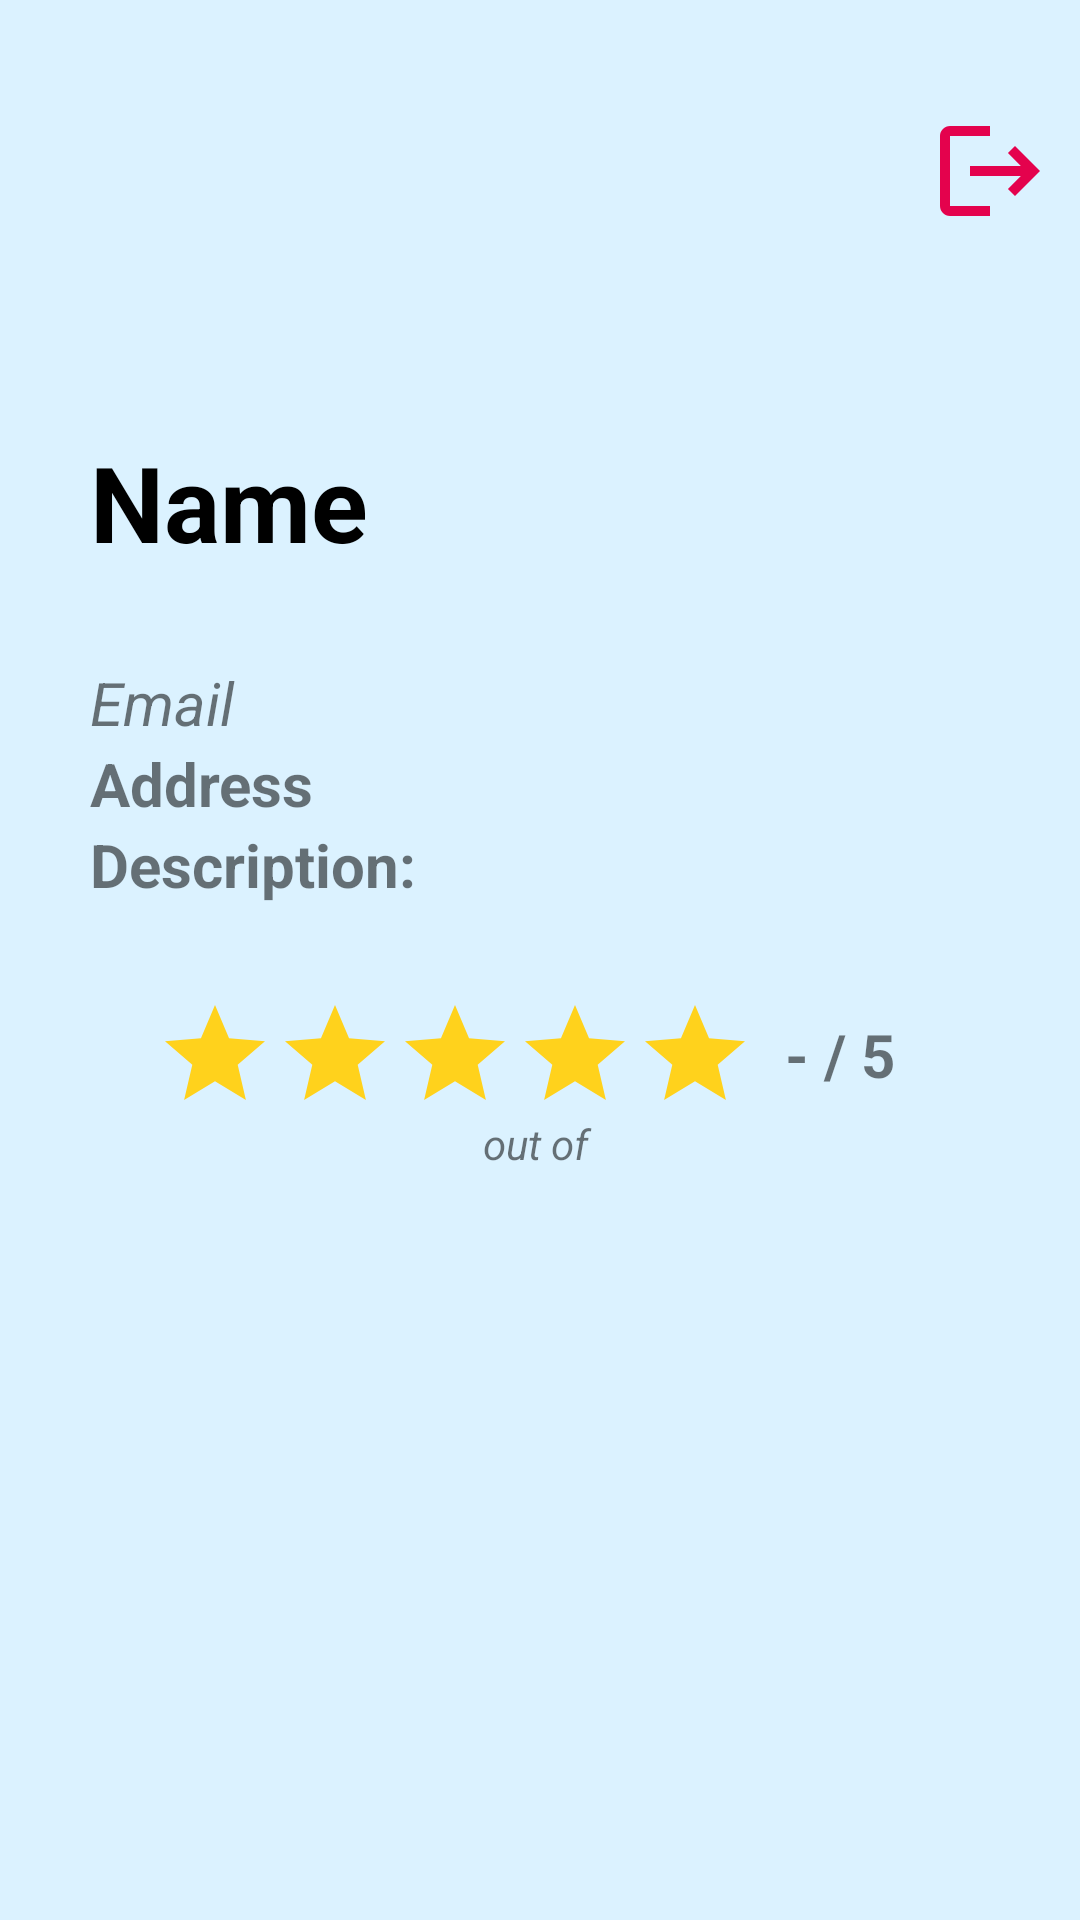

Icons on this 1080w x 1920h Android screen, each with its box as bbox=(x1, y1, x2, y2):
star: bbox=(165, 1005, 265, 1100), bbox=(285, 1005, 385, 1100), bbox=(405, 1005, 505, 1100), bbox=(525, 1005, 625, 1100), bbox=(645, 1005, 745, 1100)
